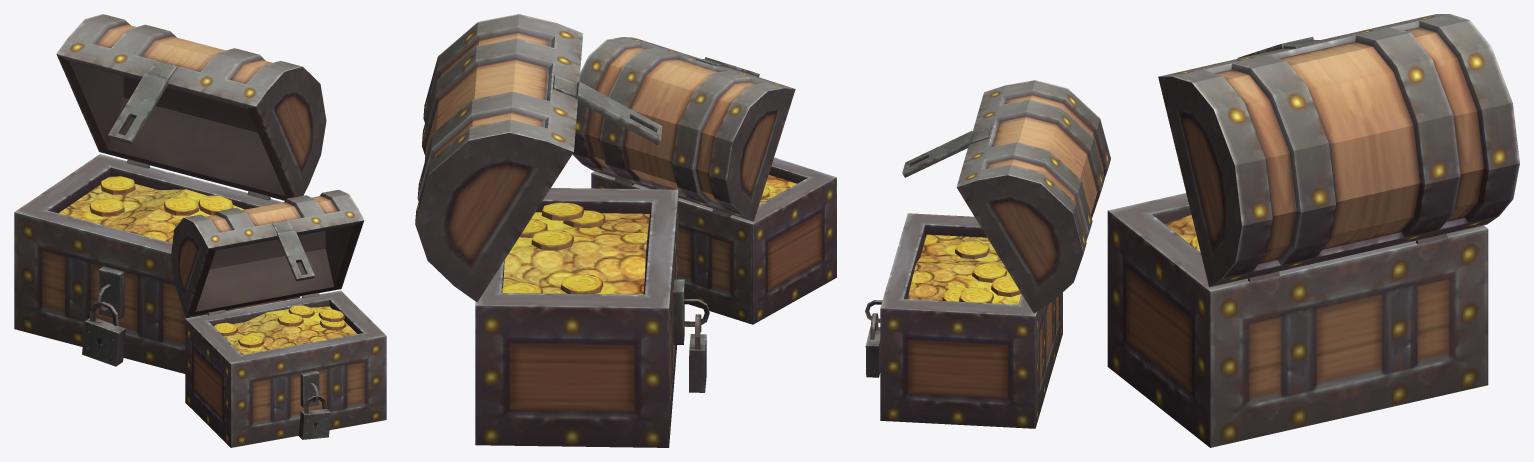
Rendered from Area_07_21.fbx.
The picture shows the model from 3 angles, left to right: view 1: azimuth 30°, elevation 25°; view 2: azimuth 150°, elevation 25°; view 3: azimuth 270°, elevation 25°; orthographic projection. The views are drawn at different scales.
Parts seen in each view (by area): view 1: Area_07_21; view 2: Area_07_21; view 3: Area_07_21.
Part boxes in pixels (x1,y1,x2,y2): Area_07_21: (14,14,386,447); Area_07_21: (415,14,836,447); Area_07_21: (865,14,1519,447).
Bounding box in the file's own units: 245 × 238 × 402.
